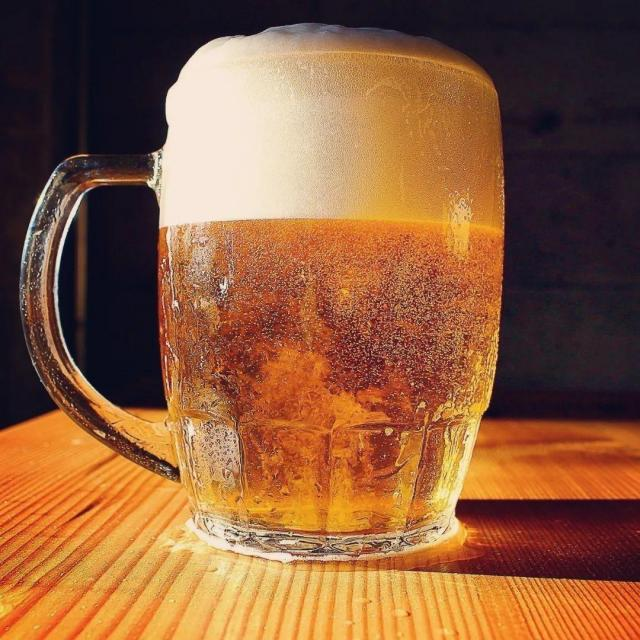glass-mug: (12, 18, 518, 557)
